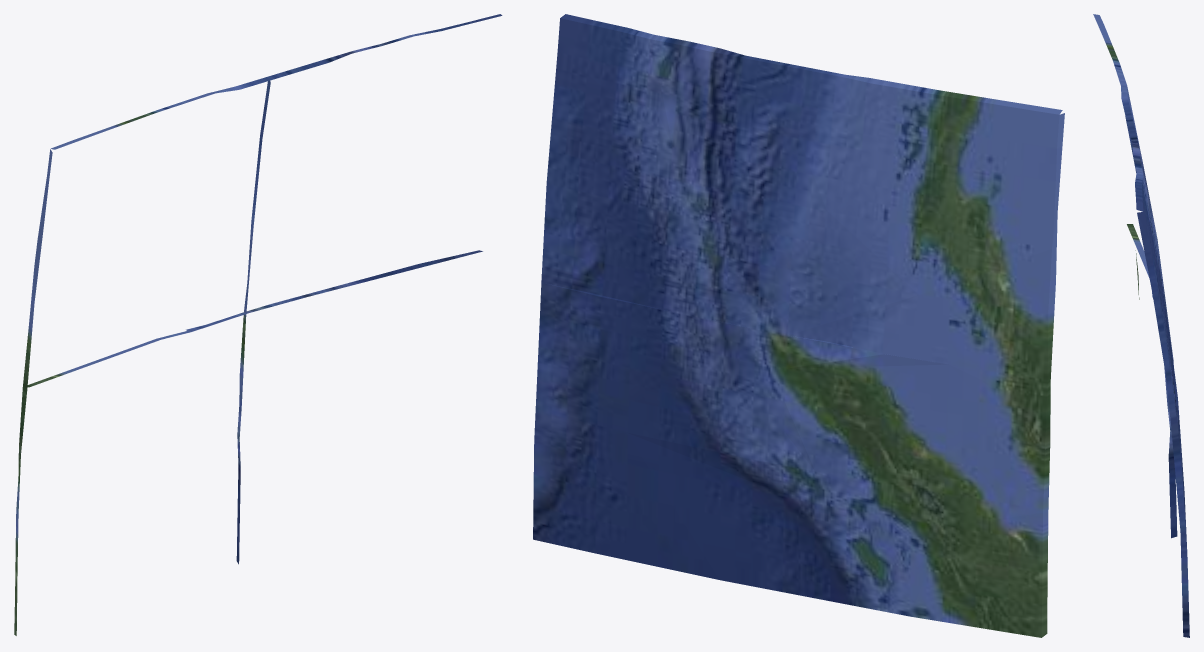
3 views of the same model, side by side, from view 1: azimuth 30°, elevation 25°; view 2: azimuth 150°, elevation 25°; view 3: azimuth 270°, elevation 25° (orthographic). The views are drawn at different scales.
Bounding box in the file's own units: 1260725 × 1253926 × 255498.
Materials: 1 (1 with a texture image).
